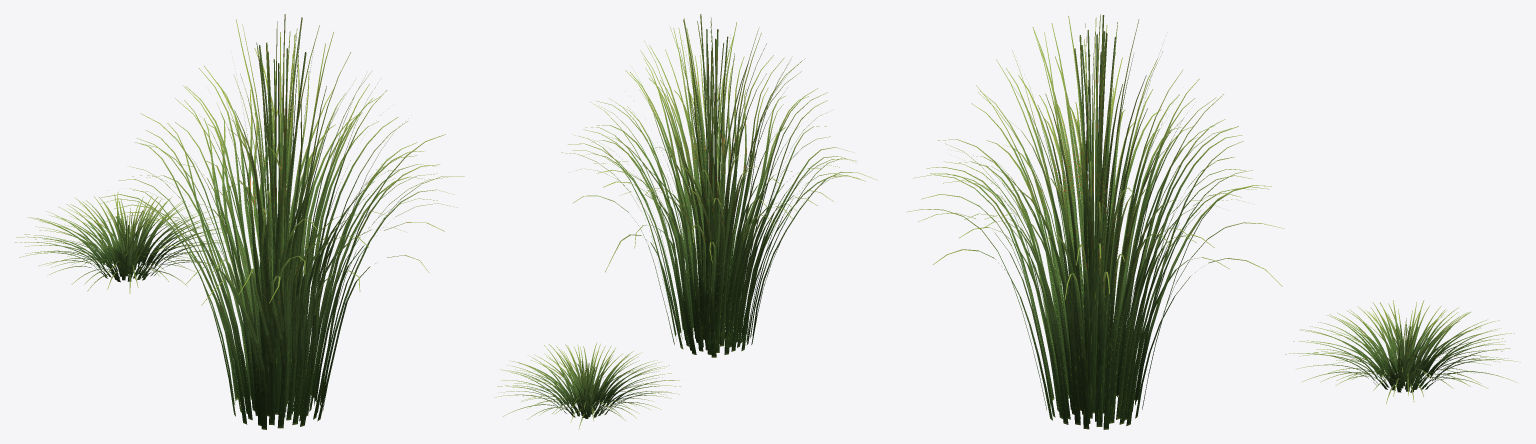
The model's file is plant_58.fbx.
3 views of the same model, side by side, from view 1: azimuth 30°, elevation 25°; view 2: azimuth 150°, elevation 25°; view 3: azimuth 270°, elevation 25° (orthographic). The views are drawn at different scales.
Visible parts, largest first — view 1: Foliage08, d:Foliage03; view 2: Foliage08, d:Foliage03; view 3: Foliage08, d:Foliage03.
Boxes of the visible parts, x1=… form: Foliage08: x1=99, y1=14, x2=464, y2=429; d:Foliage03: x1=15, y1=191, x2=238, y2=293; Foliage08: x1=561, y1=14, x2=877, y2=357; d:Foliage03: x1=494, y1=342, x2=680, y2=429; Foliage08: x1=906, y1=14, x2=1283, y2=429; d:Foliage03: x1=1285, y1=300, x2=1520, y2=404.
Size of the model in its own units: 4.94 by 5.75 by 8.
